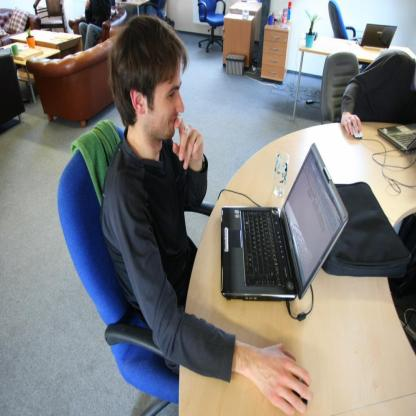board: (214, 141, 338, 316), (377, 123, 416, 155), (357, 23, 397, 49)
